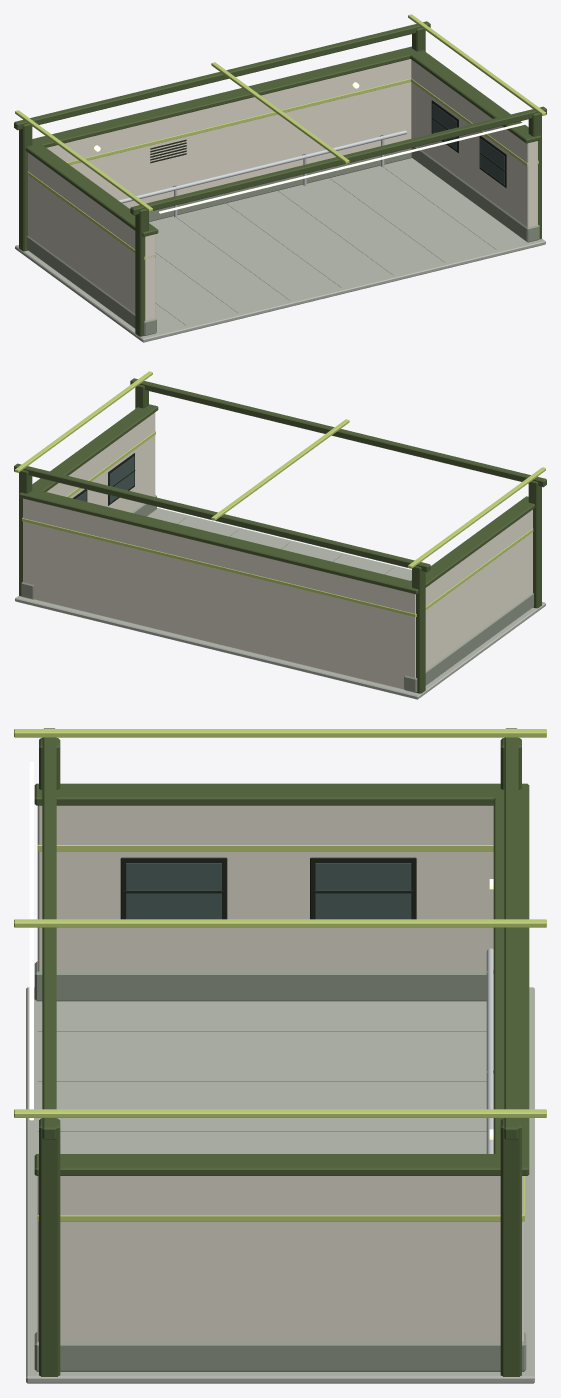
The model's file is ferment_shed.glb.
3 views of the same model, one above another, from view 1: azimuth 30°, elevation 25°; view 2: azimuth 150°, elevation 25°; view 3: azimuth 270°, elevation 25° (orthographic). The views are drawn at different scales.
Parts seen in each view (by area): view 1: FermentShed; view 2: FermentShed; view 3: FermentShed.
Part boxes in pixels (<box>): FermentShed: <box>14,14,546,342</box>; FermentShed: <box>14,371,546,699</box>; FermentShed: <box>14,728,546,1383</box>.
Bounding box in the file's own units: 16 × 5 × 9.
